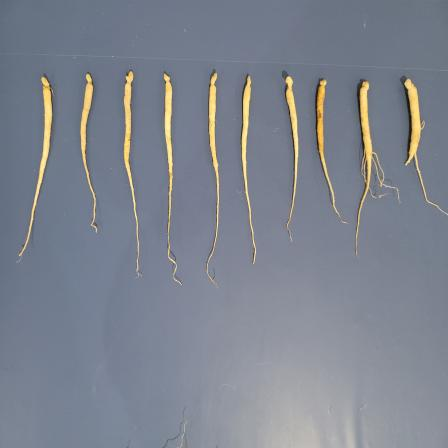Ginseng: (356, 67, 402, 254), (18, 72, 55, 255), (403, 72, 448, 220), (316, 76, 348, 224), (122, 64, 144, 278), (162, 68, 183, 287), (204, 65, 222, 289), (239, 66, 259, 264), (78, 67, 100, 232), (284, 71, 300, 243)
head: (40, 75, 52, 92), (404, 77, 416, 92), (208, 71, 218, 88), (359, 80, 370, 94), (125, 70, 134, 86), (163, 72, 172, 87), (86, 73, 94, 88), (285, 76, 295, 88), (246, 74, 252, 90), (319, 78, 327, 88)
